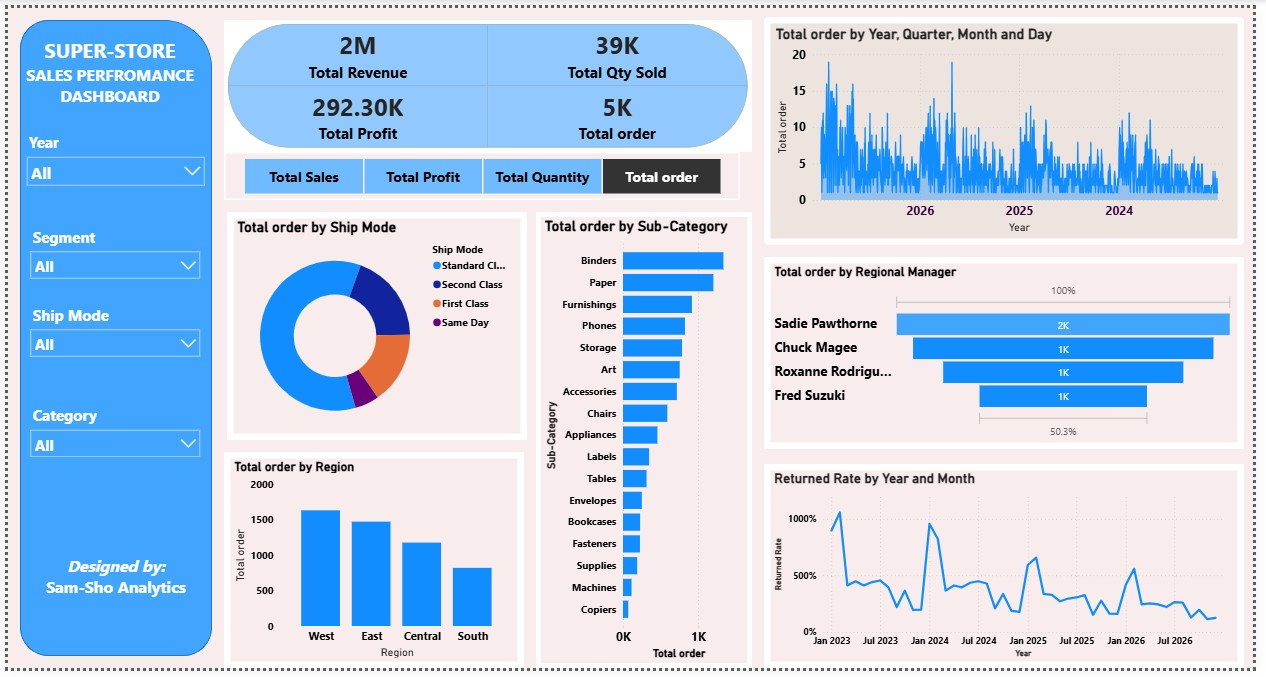

The dashboard page shown, as its layout file describes it:
{"tool":"powerbi","page":{"name":"Page 1","canvas":[1660,880],"ordinal":0},"visuals":[{"type":"shape","box":[16,16,256,848],"z":0},{"type":"cardVisual","fields":{"Data":["Fact_sales.Total Sales","Fact_sales.Total Profit","Fact_sales.Total Quantity","Fact_sales.Total order"]},"box":[288,16,704,176],"z":1000},{"type":"slicer","fields":{"Values":["DimDate.Date.Variation.Date Hierarchy.Year","DimDate.Date.Variation.Date Hierarchy.Quarter","DimDate.Date.Variation.Date Hierarchy.Month","DimDate.Date.Variation.Date Hierarchy.Day"]},"box":[16,160,256,96],"z":2000},{"type":"columnChart","fields":{"Y":["Fact_sales.Total order"],"Category":["Dim_People.Region"]},"box":[288,592,400,288],"z":3000},{"type":"clusteredBarChart","fields":{"Y":["Fact_sales.Total order"],"Category":["Dim_product.Sub-Category"]},"box":[704,272,288,608],"z":4000},{"type":"lineChart","fields":{"Y":["Fact_sales.Total order"],"Category":["DimDate.Date.Variation.Date Hierarchy.Year","DimDate.Date.Variation.Date Hierarchy.Quarter","DimDate.Date.Variation.Date Hierarchy.Month","DimDate.Date.Variation.Date Hierarchy.Day"]},"box":[1007.3,11.9,640,304],"z":5000},{"type":"funnel","fields":{"Y":["Fact_sales.Total order"],"Category":["Dim_People.Regional Manager"]},"box":[1007.3,331.9,640,256],"z":6000},{"type":"lineChart","fields":{"Y":["DimDate.Returned Rate"],"Category":["DimDate.Date.Variation.Date Hierarchy.Year","DimDate.Date.Variation.Date Hierarchy.Month"]},"box":[1008,608,640,272],"z":7000},{"type":"slicer","fields":{"Values":["Parameter.Parameter"]},"box":[288,192,688,64],"z":8000},{"type":"donutChart","fields":{"Y":["Fact_sales.Total order"],"Category":["Dim_shipmode.Ship Mode"]},"box":[292,272,400,304],"z":9000},{"type":"textbox","box":[32,32,208,112],"z":10000},{"type":"slicer","fields":{"Values":["Dim_Customer.Segment"]},"box":[19.9,285.9,246.1,104.4],"z":11000},{"type":"slicer","fields":{"Values":["Dim_shipmode.Ship Mode"]},"box":[19.9,390.3,246.1,101.9],"z":12000},{"type":"slicer","fields":{"Values":["Dim_product.Category"]},"box":[19.9,524.6,246.1,101.9],"z":13000},{"type":"textbox","box":[48,704,176,80],"z":14000}]}

Visuals, with their boxes in screenshot pixels (x1, y1, x2, y2), scaled from the page's 1660x880 canvas onto the 1266x677 screenshot:
shape: (12, 12, 207, 665)
cardVisual - Fact_sales.Total Sales x Fact_sales.Total Profit: (220, 12, 757, 148)
slicer - DimDate.Date.Variation.Date Hierarchy.Year x DimDate.Date.Variation.Date Hierarchy.Quarter: (12, 123, 207, 197)
columnChart - Fact_sales.Total order x Dim_People.Region: (220, 455, 525, 676)
clusteredBarChart - Fact_sales.Total order x Dim_product.Sub-Category: (537, 209, 757, 676)
lineChart - Fact_sales.Total order x DimDate.Date.Variation.Date Hierarchy.Year: (768, 9, 1256, 243)
funnel - Fact_sales.Total order x Dim_People.Regional Manager: (768, 255, 1256, 452)
lineChart - DimDate.Returned Rate x DimDate.Date.Variation.Date Hierarchy.Year: (769, 468, 1257, 676)
slicer - Parameter.Parameter: (220, 148, 744, 197)
donutChart - Fact_sales.Total order x Dim_shipmode.Ship Mode: (223, 209, 528, 443)
textbox: (24, 25, 183, 111)
slicer - Dim_Customer.Segment: (15, 220, 203, 300)
slicer - Dim_shipmode.Ship Mode: (15, 300, 203, 379)
slicer - Dim_product.Category: (15, 404, 203, 482)
textbox: (37, 542, 171, 603)
